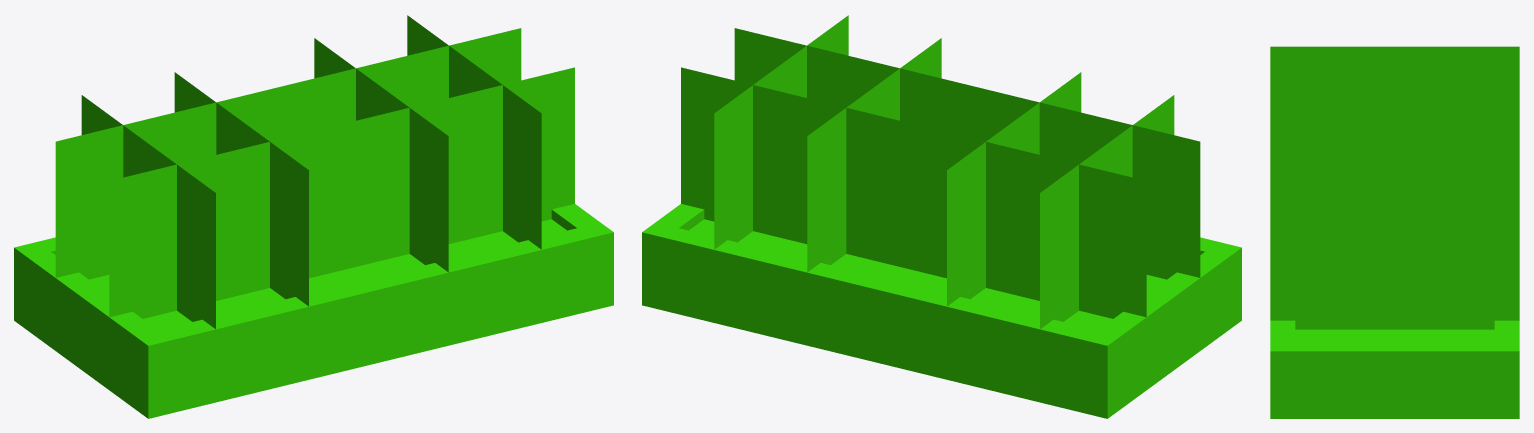
3 views of the same model, side by side, from view 1: azimuth 30°, elevation 25°; view 2: azimuth 150°, elevation 25°; view 3: azimuth 270°, elevation 25° (orthographic). The views are drawn at different scales.
Visible parts, largest first — view 1: flowerbed6_1x2; view 2: flowerbed6_1x2; view 3: flowerbed6_1x2.
Boxes of the visible parts, <box> form: flowerbed6_1x2: <box>14,15,613,418</box>; flowerbed6_1x2: <box>642,15,1241,418</box>; flowerbed6_1x2: <box>1270,46,1519,418</box>.
Bounding box in the file's own units: 2 × 0.86 × 1.
